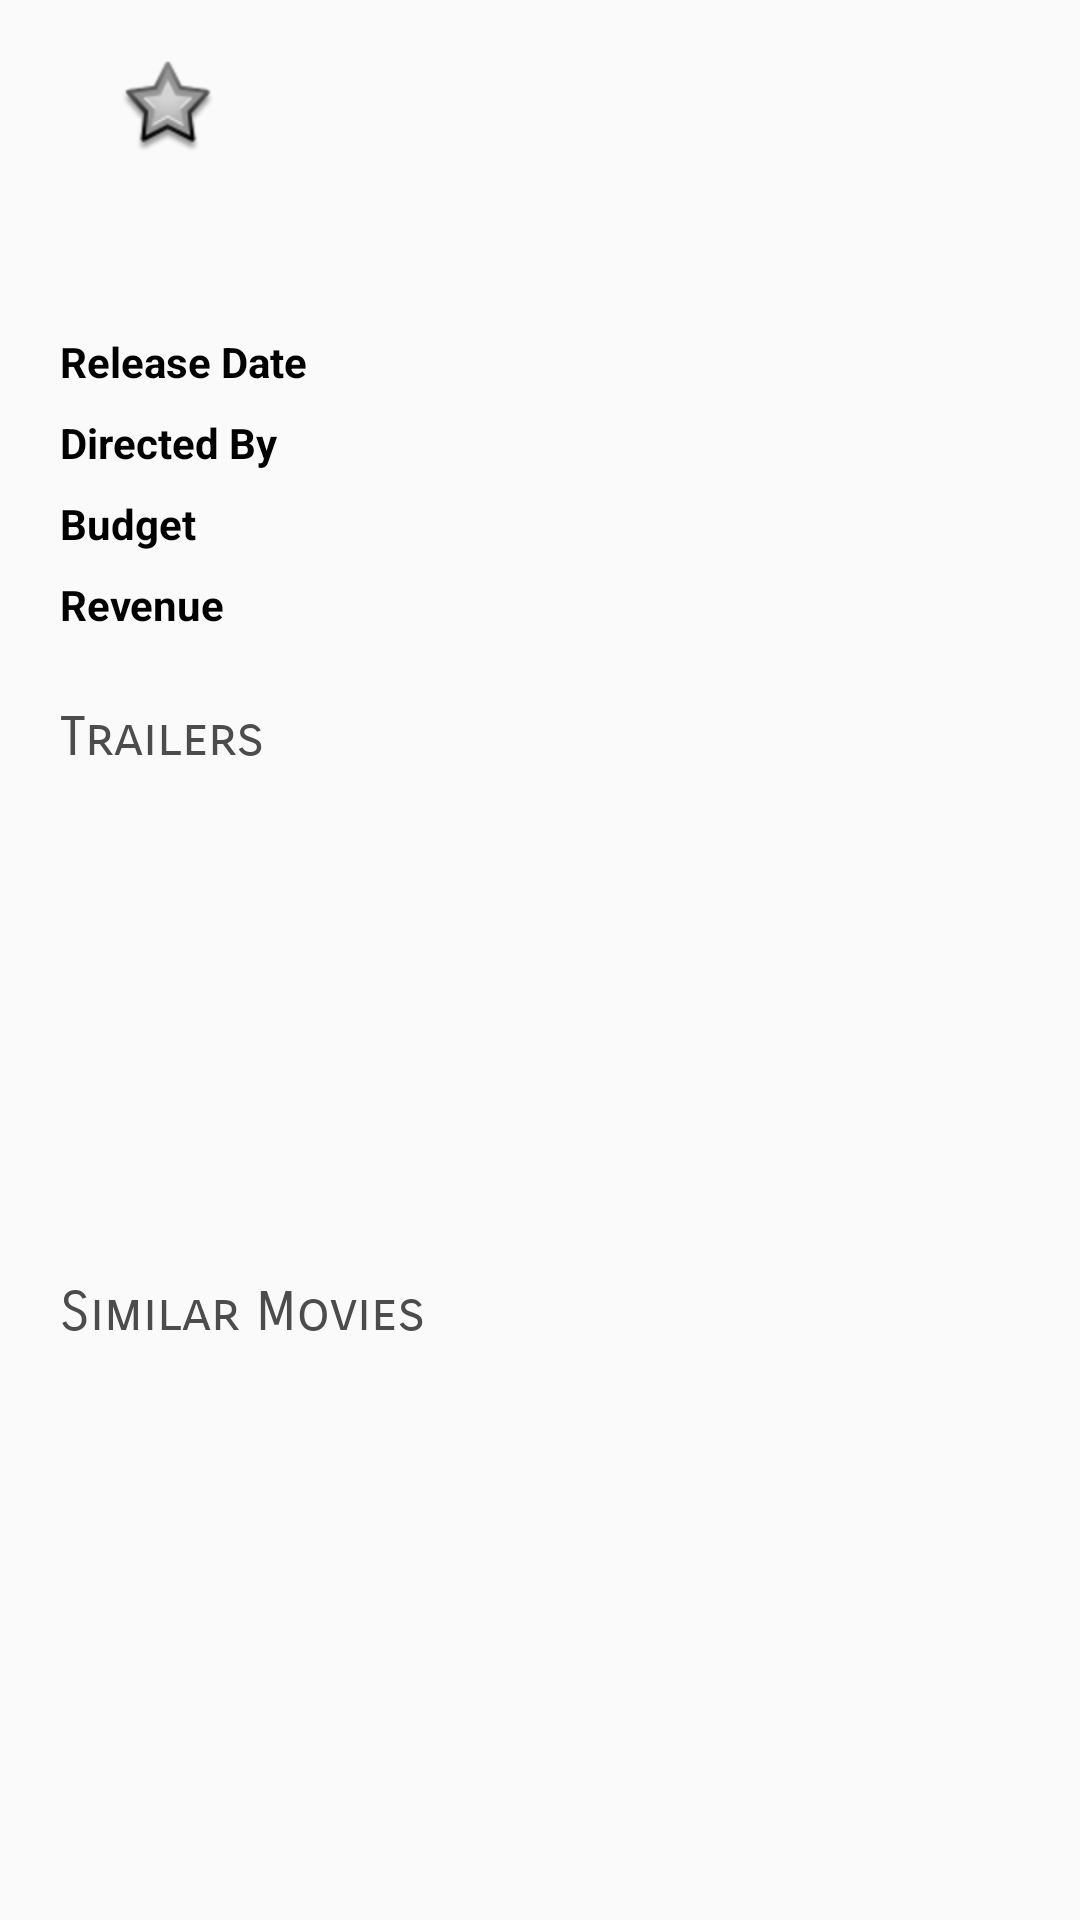

Where to tap for icons on this 1080w x 1920h app screen, as [x,y]:
star off: [168,104]
